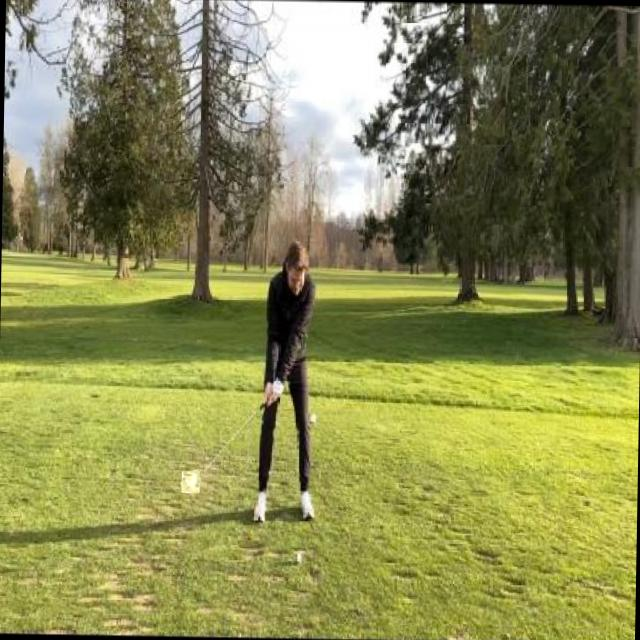club head: (180, 471, 200, 493)
